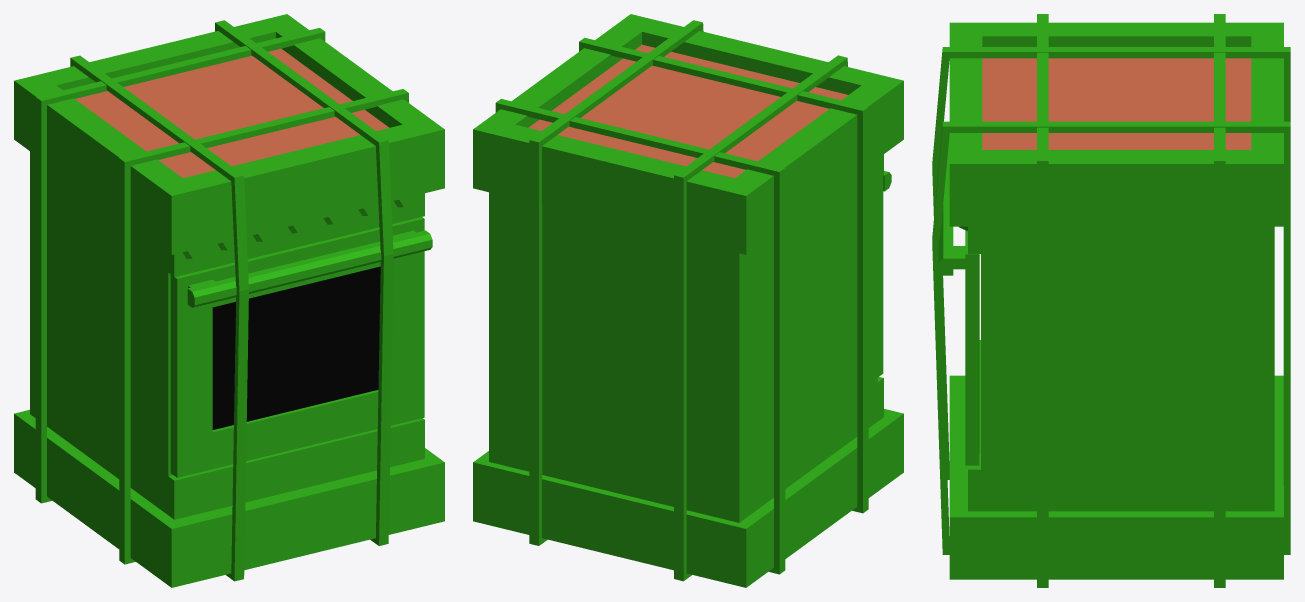
File: SM_electric_stove1.fbx
The picture shows the model from 3 angles, left to right: view 1: azimuth 30°, elevation 25°; view 2: azimuth 150°, elevation 25°; view 3: azimuth 270°, elevation 25°; orthographic projection. The views are drawn at different scales.
Parts seen in each view (by area): view 1: electric_stove1; view 2: electric_stove1; view 3: electric_stove1.
Boxes of the visible parts, bbox=[...] form: electric_stove1: bbox=[14, 14, 444, 587]; electric_stove1: bbox=[473, 14, 903, 587]; electric_stove1: bbox=[932, 14, 1290, 587].
Bounding box in the file's own units: 68.08 × 92.42 × 70.13.
